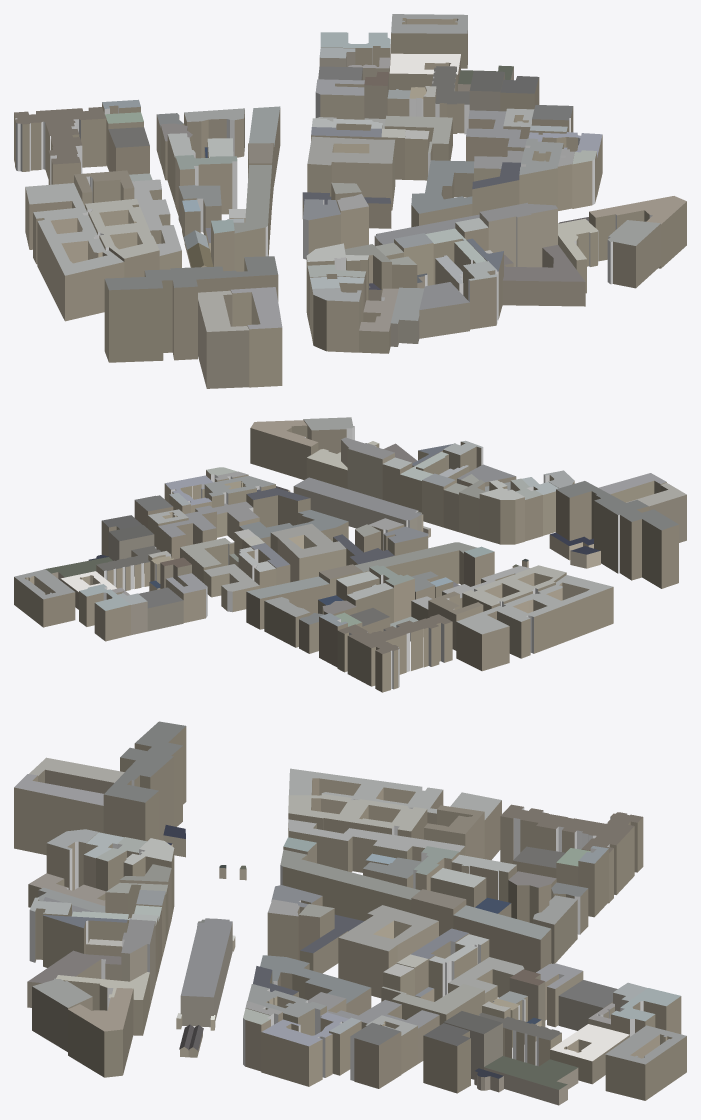
The picture shows the model from 3 angles, top to bottom: view 1: azimuth 30°, elevation 25°; view 2: azimuth 150°, elevation 25°; view 3: azimuth 270°, elevation 25°; orthographic projection. The views are drawn at different scales.
Visible parts, largest first — view 1: tuile; view 2: tuile; view 3: tuile.
Part boxes in pixels (x1=…): tuile: x1=14, y1=14, x2=686, y2=388; tuile: x1=14, y1=417, x2=686, y2=692; tuile: x1=14, y1=721, x2=686, y2=1105.
Bounding box in the file's own units: 295 × 38.54 × 275.
